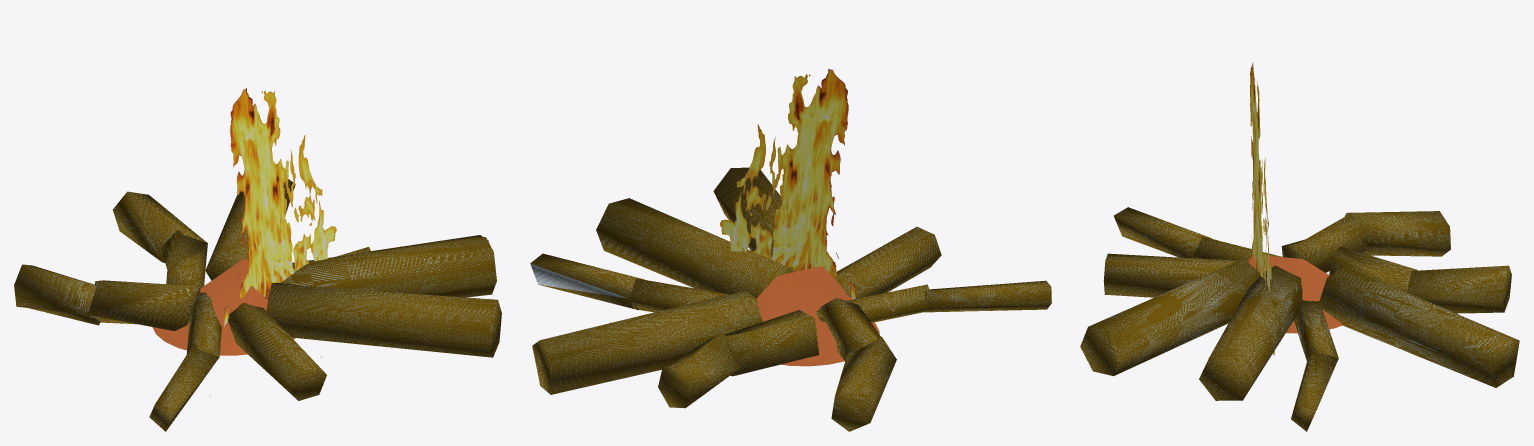
File: campfire.fbx
3 views of the same model, side by side, from view 1: azimuth 30°, elevation 25°; view 2: azimuth 150°, elevation 25°; view 3: azimuth 270°, elevation 25° (orthographic). The views are drawn at different scales.
Visible parts, largest first — view 1: Group1, Group3, Group2; view 2: Group1, Group3, Group2; view 3: Group1, Group3, Group2.
Part boxes in pixels (bbox=[...]): Group1: bbox=[14, 179, 501, 431]; Group3: bbox=[210, 88, 336, 396]; Group2: bbox=[152, 258, 295, 355]; Group1: bbox=[530, 167, 1051, 431]; Group3: bbox=[720, 69, 856, 299]; Group2: bbox=[756, 266, 879, 366]; Group1: bbox=[1080, 207, 1519, 431]; Group3: bbox=[1248, 62, 1274, 355]; Group2: bbox=[1248, 254, 1342, 333].
Bounding box in the file's own units: 2.64 × 1.94 × 2.48.
